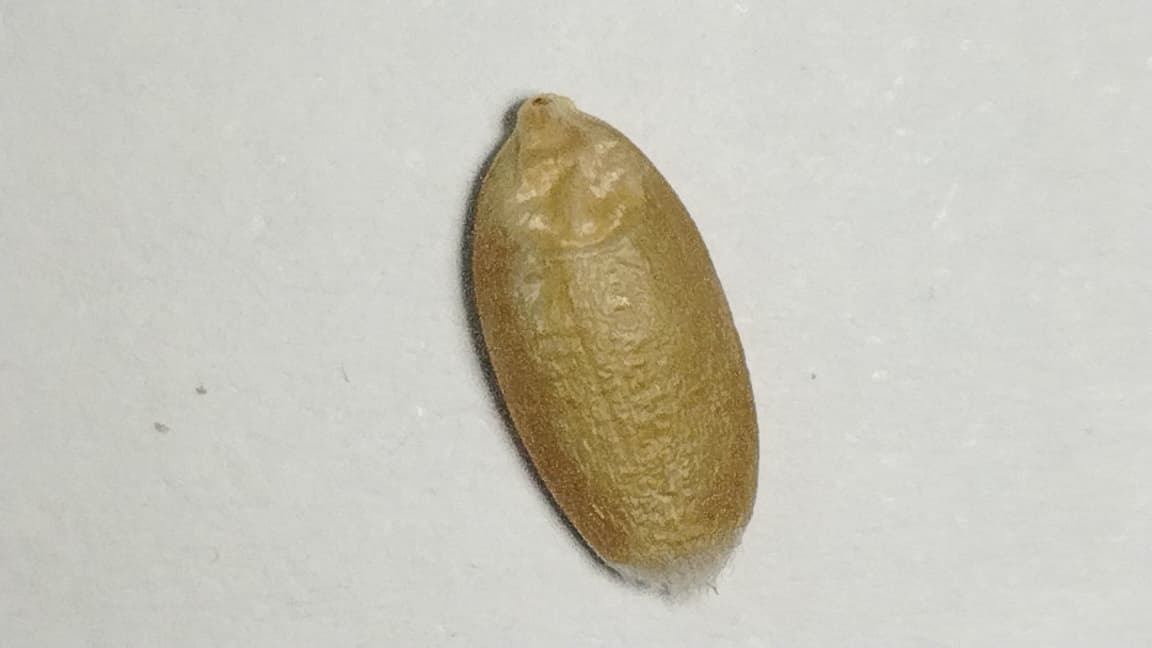healthy: (464, 103, 757, 582)
